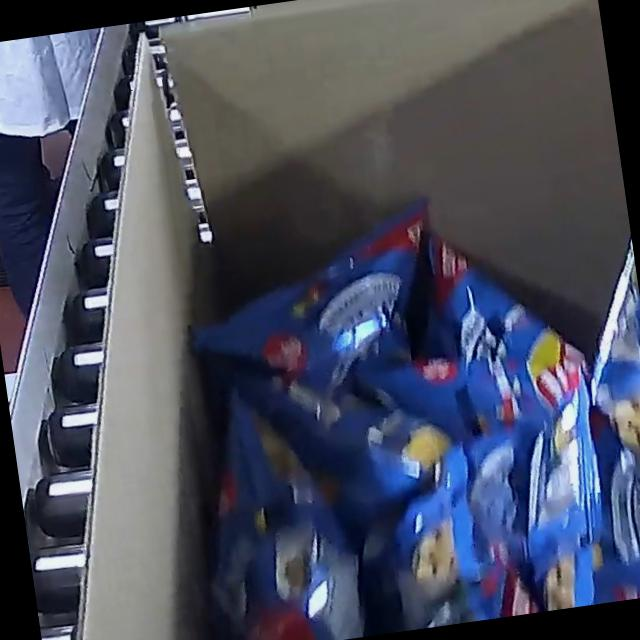paprika: (149, 171, 640, 640)
